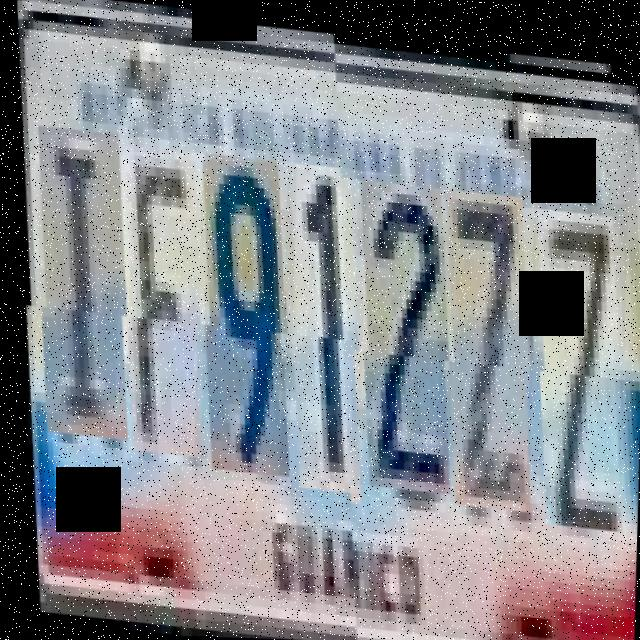1: (276, 166, 368, 498)
2: (347, 175, 458, 488)
9: (191, 160, 298, 482)
F: (111, 152, 212, 464)
I: (25, 134, 136, 448)
Z: (432, 182, 539, 504), (523, 200, 630, 522)
